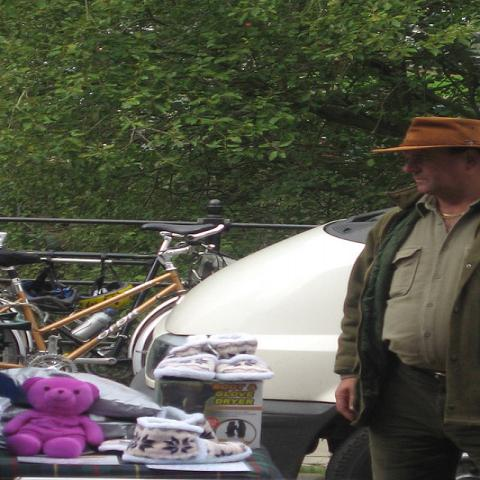car: (129, 207, 396, 480)
